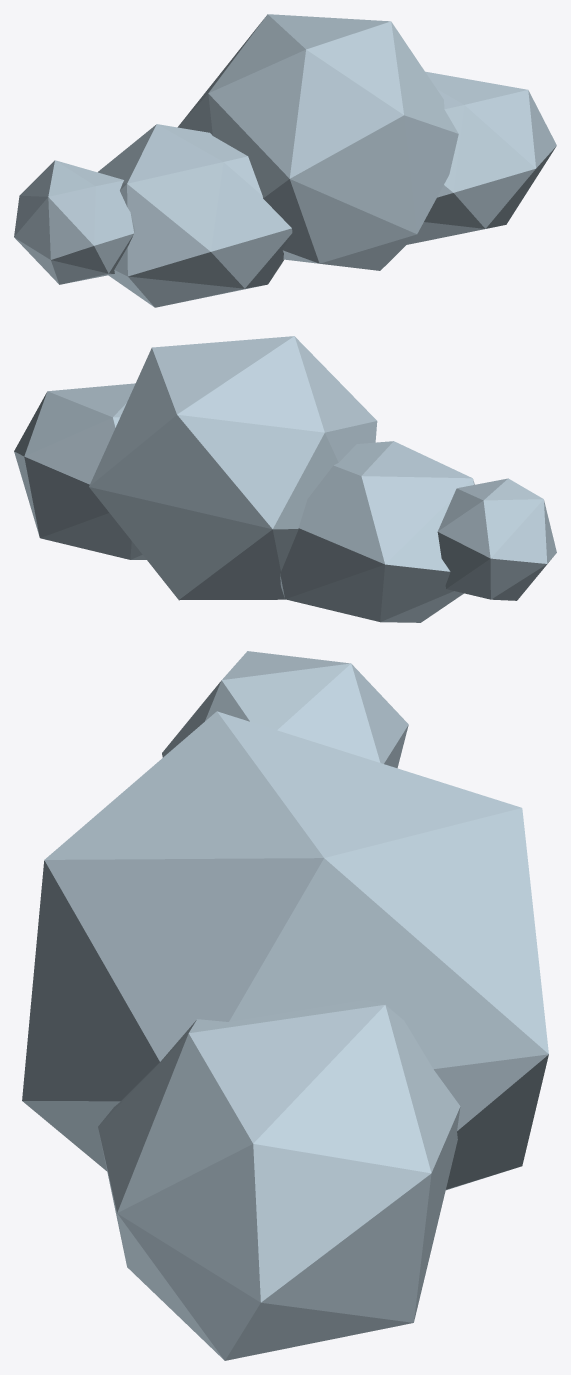
File: small_cloud_40.fbx
3 renders of one model, top to bottom at view 1: azimuth 30°, elevation 25°; view 2: azimuth 150°, elevation 25°; view 3: azimuth 270°, elevation 25°, orthographic. The views are drawn at different scales.
Parts seen in each view (by area): view 1: cloud_10; view 2: cloud_10; view 3: cloud_10.
Boxes of the visible parts, x1,y1,x2,y2 form: cloud_10: (14, 14, 556, 307); cloud_10: (14, 336, 556, 622); cloud_10: (22, 651, 548, 1360).
Bounding box in the file's own units: 478 × 206 × 206.
